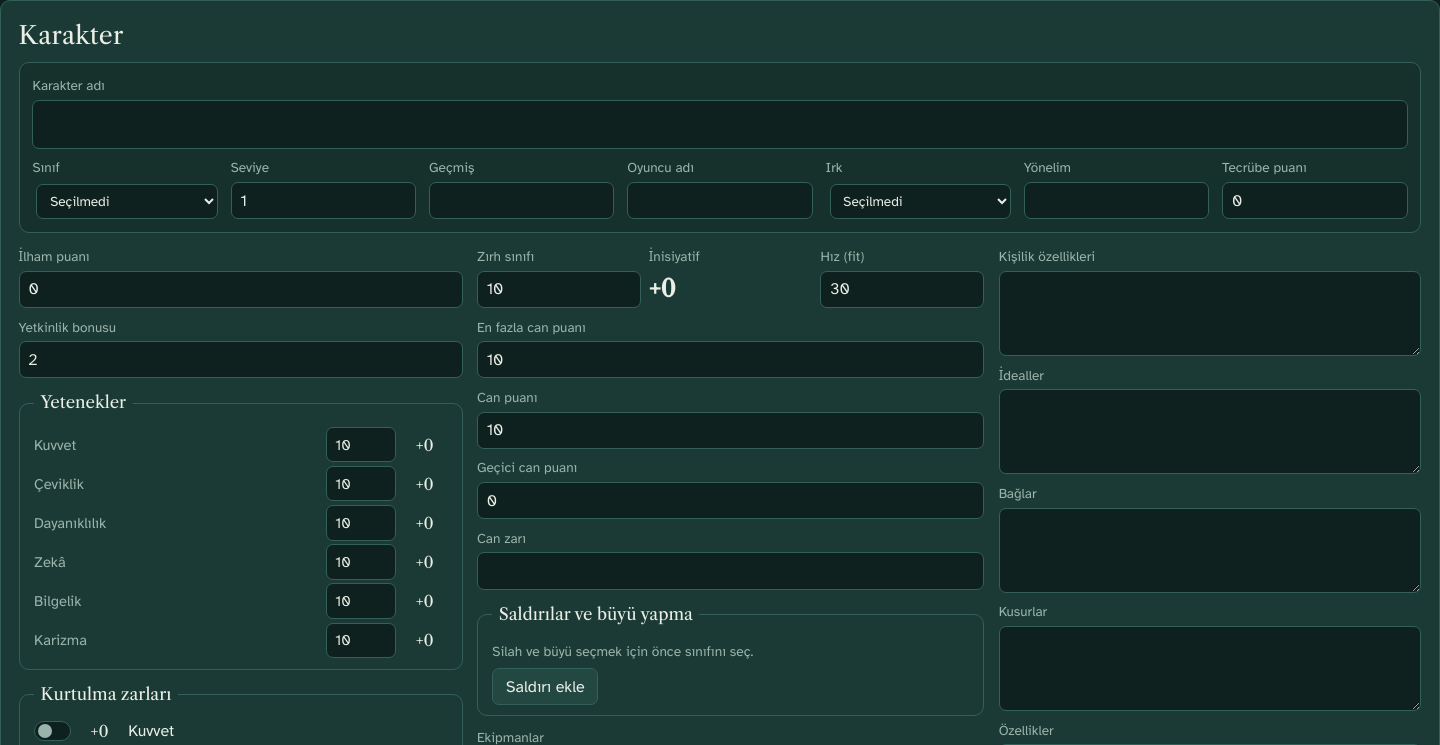
ırk seçilince yürüme hızı kartta güncellenir
The width and height of the screenshot is (1440, 745).
Select "Cüce" in the dropdown labelled "Irk". click: point(920, 202)
box: [830,184,1011,219]
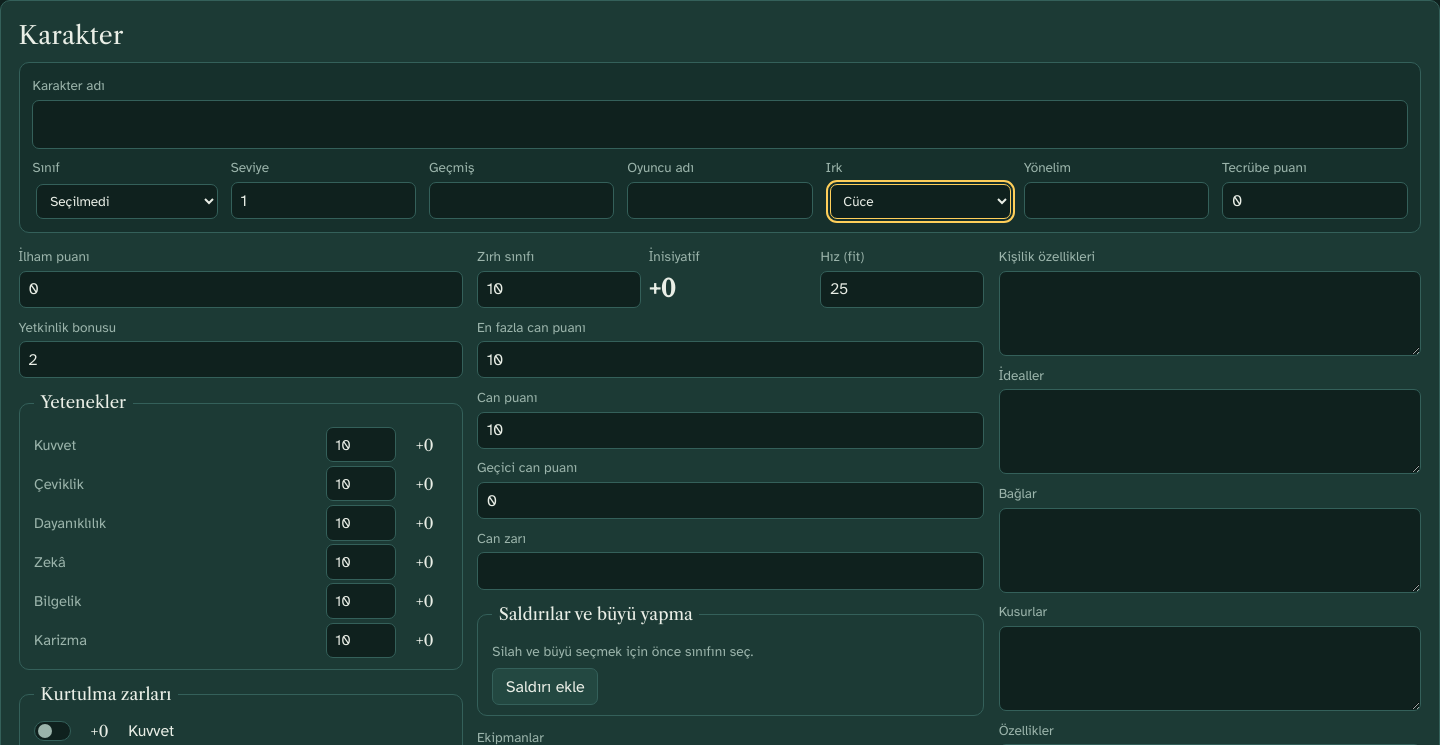
Check: the number field labelled "Hız (fit)" holds "25", box [820,271,984,308]
